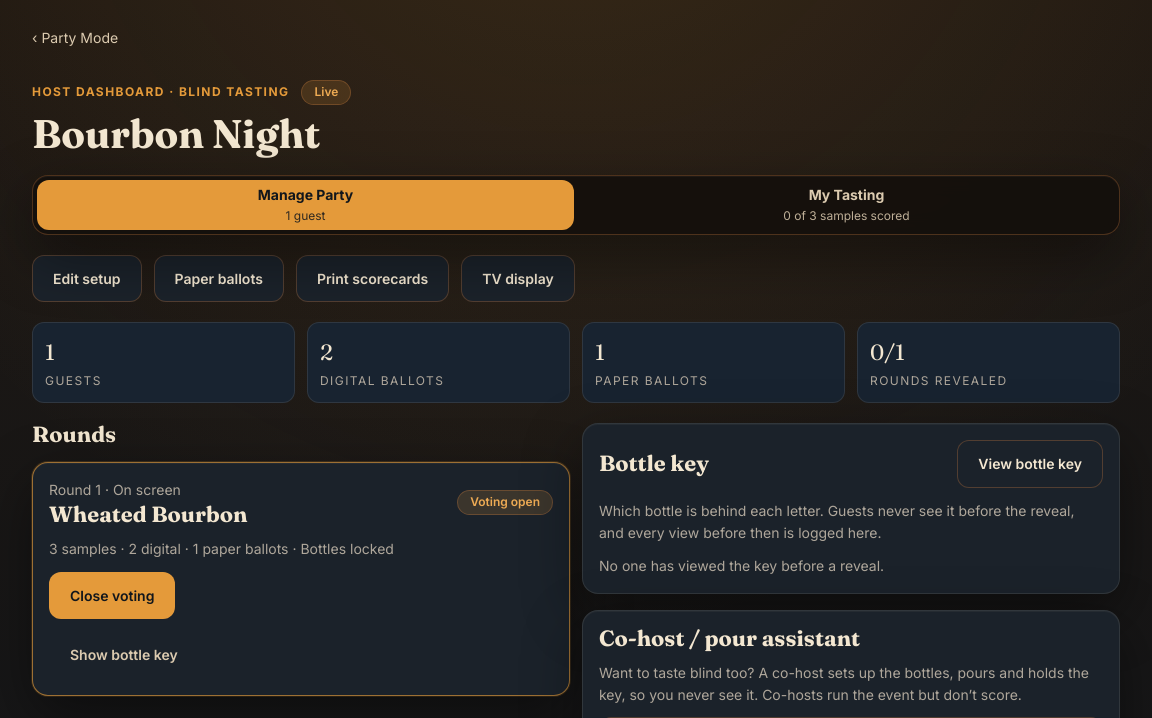
Test: HostDashboardPage › when the host is tasting too › warns a tasting host before showing the key
This screenshot has width=1152, height=718.
What coordinates should you click on to do the following:
click the button "View bottle key"
I would click on:
 (1030, 464)
Its box is [957,440,1103,488].
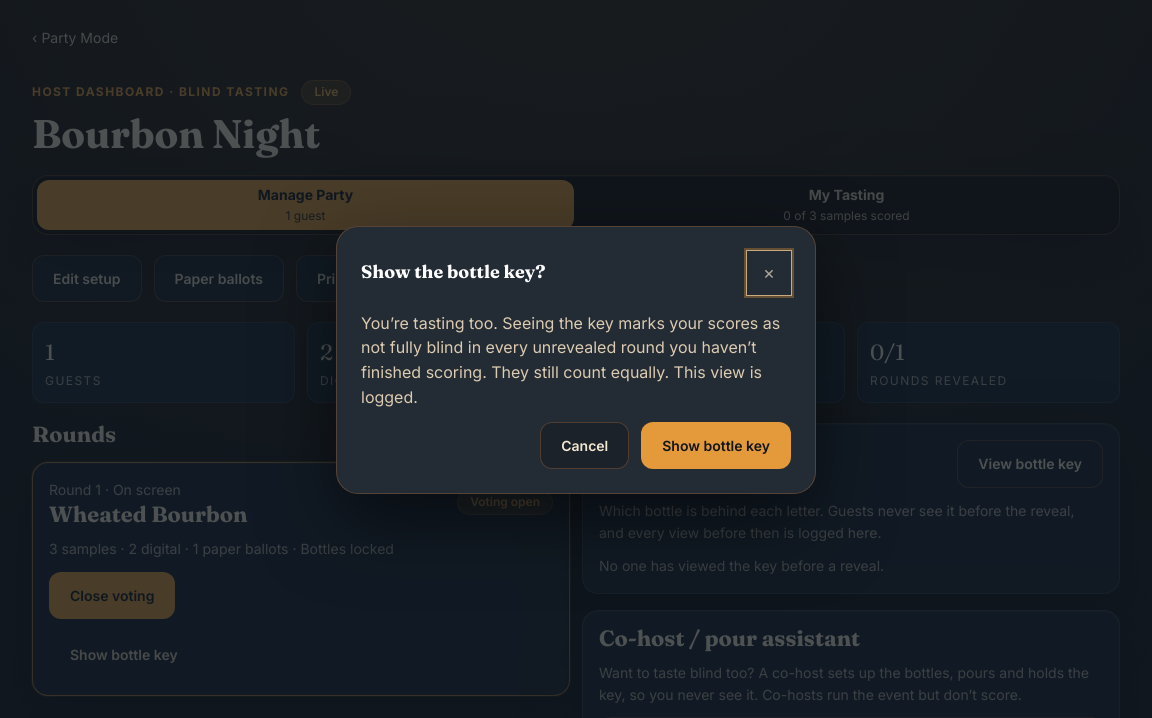
Result: the dialog shows "marks your scores as not fully blind" at [361,313,780,407]
